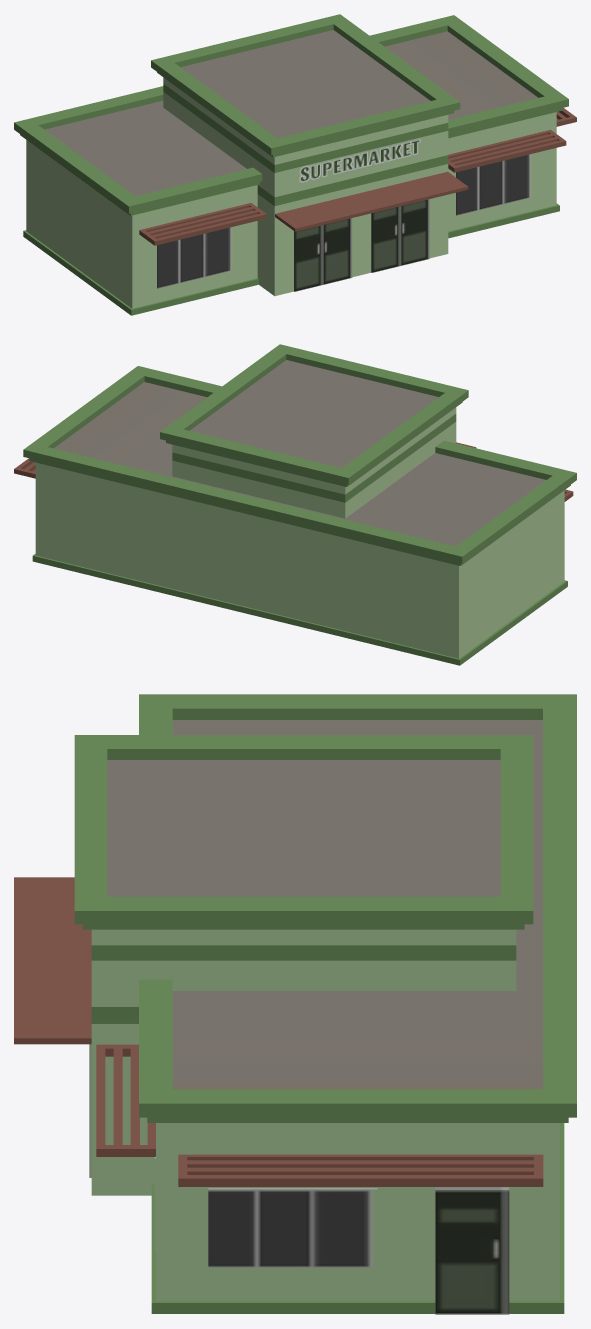
The model's file is Building_Super Market.fbx.
The picture shows the model from 3 angles, top to bottom: view 1: azimuth 30°, elevation 25°; view 2: azimuth 150°, elevation 25°; view 3: azimuth 270°, elevation 25°; orthographic projection. The views are drawn at different scales.
Visible parts, largest first — view 1: Building_Super Market; view 2: Building_Super Market; view 3: Building_Super Market.
Part boxes in pixels (x1,y1,x2,y2): Building_Super Market: (14, 14, 576, 315); Building_Super Market: (14, 344, 576, 665); Building_Super Market: (14, 694, 576, 1314).
Bounding box in the file's own units: 2375 × 758 × 1325.
